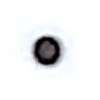cancer: (13, 17, 81, 81)
